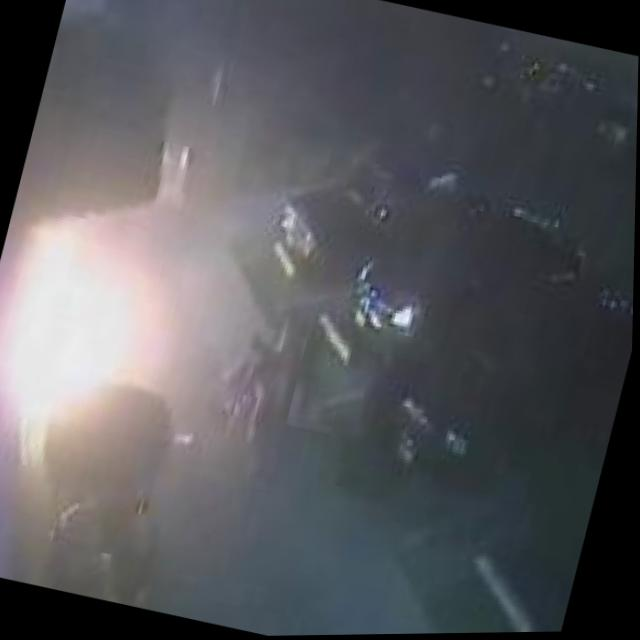fire: (0, 205, 181, 451)
